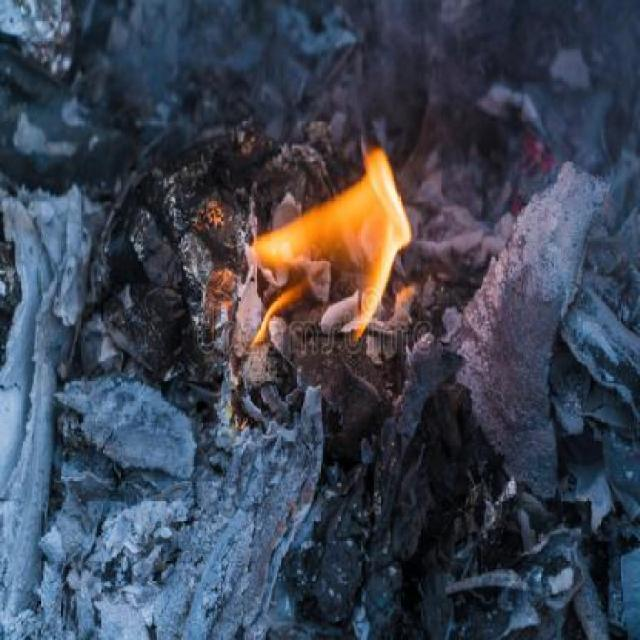Fire: (226, 140, 416, 375)
Smoke: (67, 0, 640, 290)
